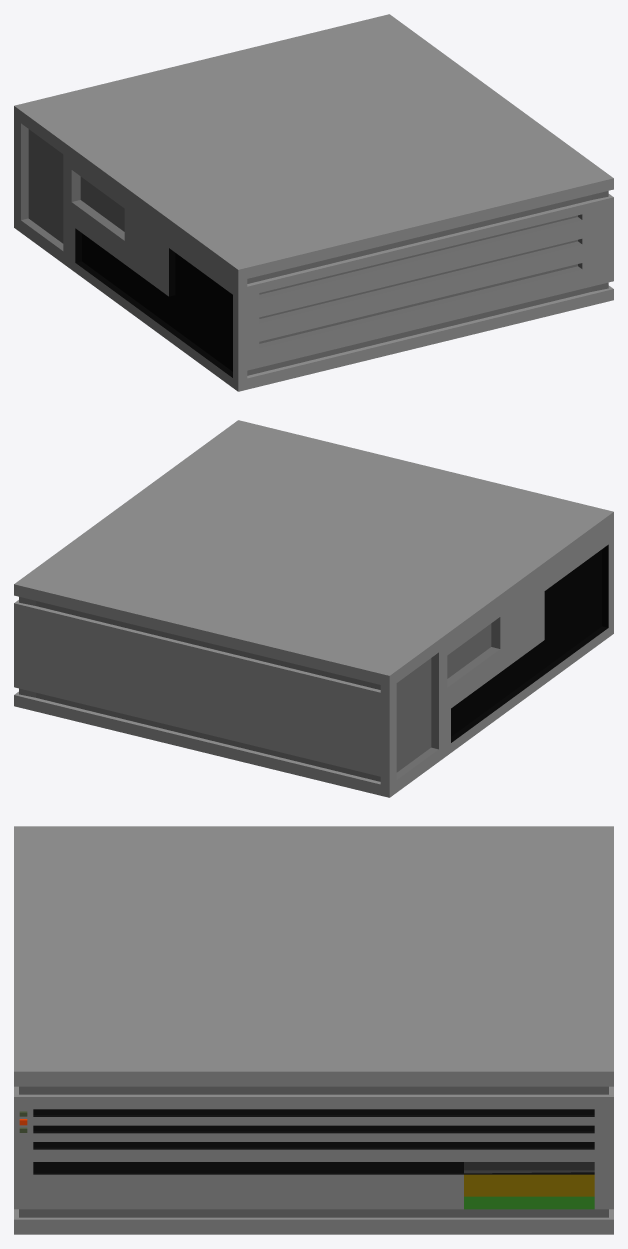
File: PC_Tower_02.glb
3 views of the same model, one above another, from view 1: azimuth 30°, elevation 25°; view 2: azimuth 150°, elevation 25°; view 3: azimuth 270°, elevation 25° (orthographic). The views are drawn at different scales.
Visible parts, largest first — view 1: Mesh_PC_02; view 2: Mesh_PC_02; view 3: Mesh_PC_02.
Boxes of the visible parts, x1,y1,x2,y2 form: Mesh_PC_02: (14, 14, 613, 391); Mesh_PC_02: (14, 420, 613, 797); Mesh_PC_02: (14, 826, 613, 1234).
Size of the model in its own units: 0.4864 by 0.15 by 0.5.
Materials: 1 (1 with a texture image).
